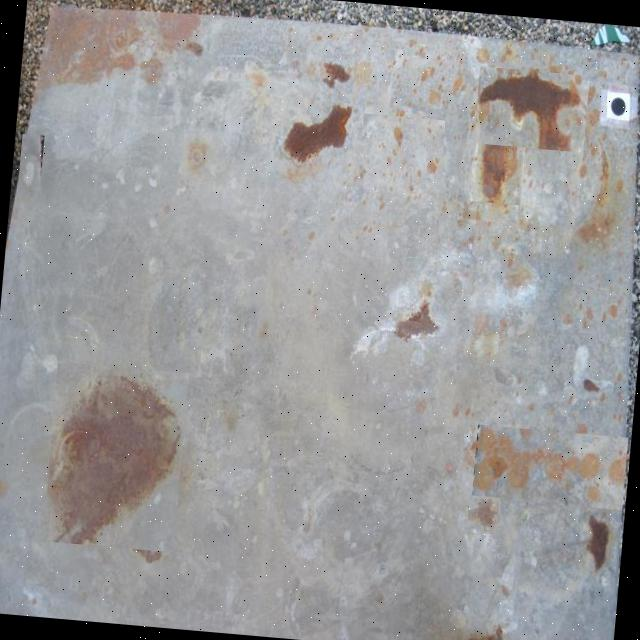Corrosion: (0, 0, 640, 640), (40, 367, 186, 552), (474, 62, 583, 152), (280, 97, 352, 167)
